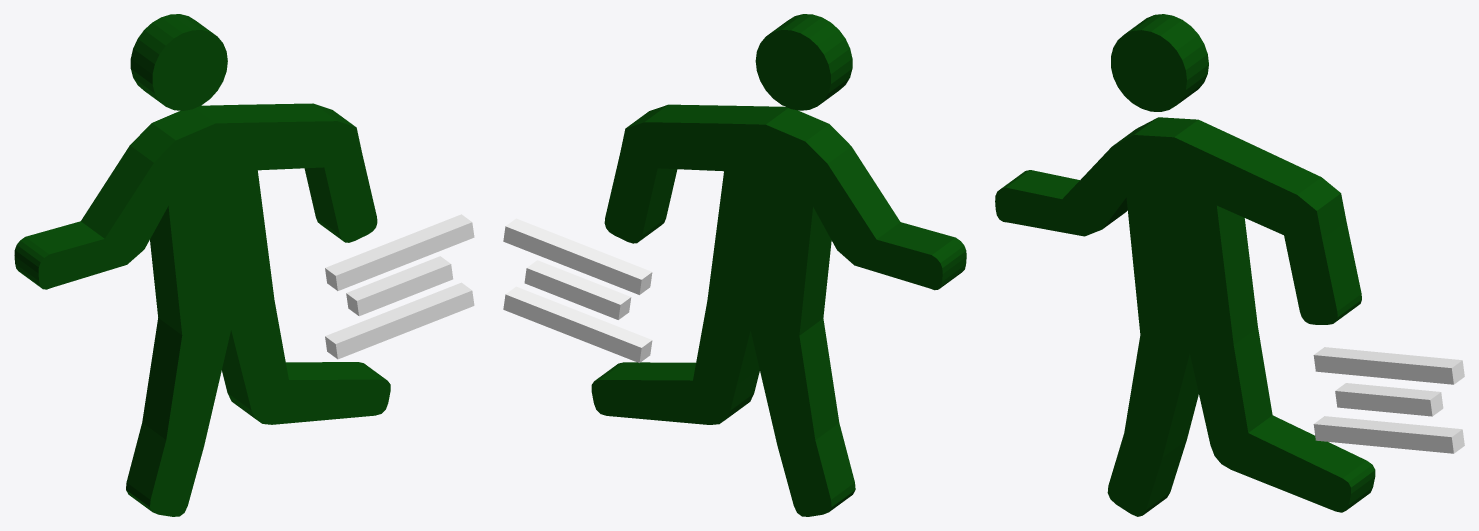
Rendered from Speed up item.FBX.
3 views of the same model, side by side, from view 1: azimuth 30°, elevation 25°; view 2: azimuth 150°, elevation 25°; view 3: azimuth 330°, elevation 25° (orthographic).
Parts seen in each view (by area): view 1: Box001; view 2: Box001; view 3: Box001.
Boxes of the visible parts, left/top/right/bottom form: Box001: left=14, top=14, right=474, bottom=516; Box001: left=503, top=14, right=966, bottom=516; Box001: left=995, top=14, right=1464, bottom=516.
Size of the model in its own units: 525 by 545 by 49.33.
